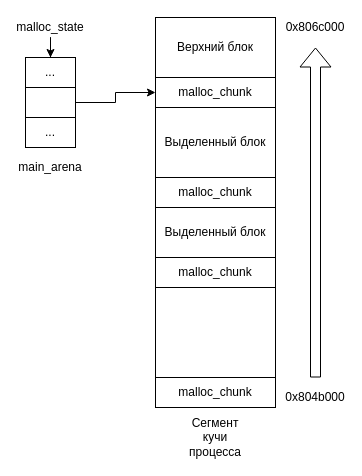
Some shapes in this 362 by 476 pixel diagram are drawn without their labels. Here are the shapes that lost their labels. From the top down, the centre of each, then its label:
pixel 50 102: верх
pixel 215 332: Пустой блок
